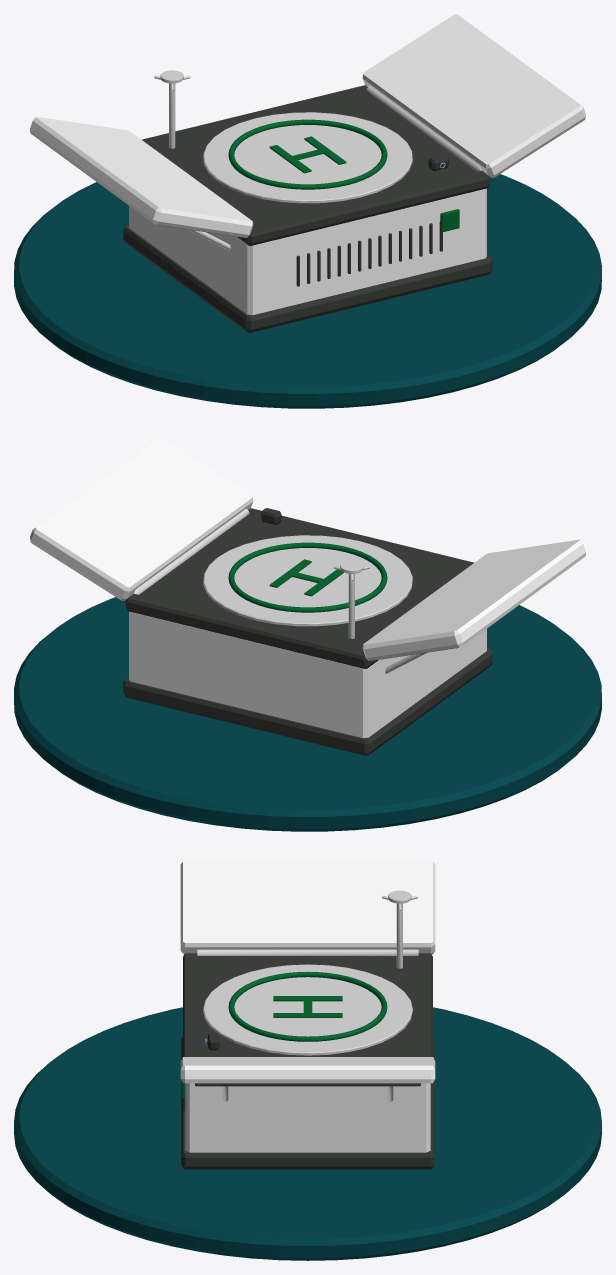
File: dji-dock-3.glb
The picture shows the model from 3 angles, top to bottom: view 1: azimuth 30°, elevation 25°; view 2: azimuth 150°, elevation 25°; view 3: azimuth 270°, elevation 25°; orthographic projection.
Parts seen in each view (by area): view 1: body, pedestal; view 2: body, pedestal; view 3: pedestal, body.
Boxes of the visible parts, x1=… form: body: x1=30, y1=14, x2=585, y2=332; pedestal: x1=14, y1=174, x2=601, y2=408; body: x1=30, y1=437, x2=585, y2=755; pedestal: x1=14, y1=597, x2=601, y2=831; pedestal: x1=14, y1=1007, x2=601, y2=1260; body: x1=180, y1=860, x2=435, y2=1169.
Bounding box in the file's own units: 4.4 × 1.65 × 4.4.
